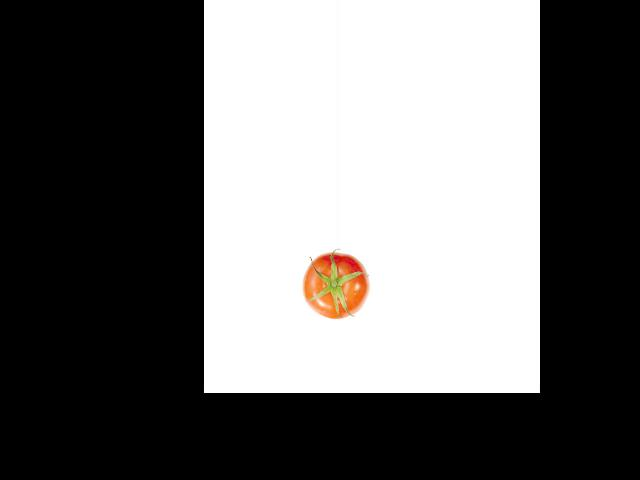tomato: (302, 252, 369, 319)
